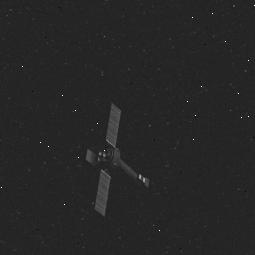xmm_newton: (80, 115, 140, 222)
